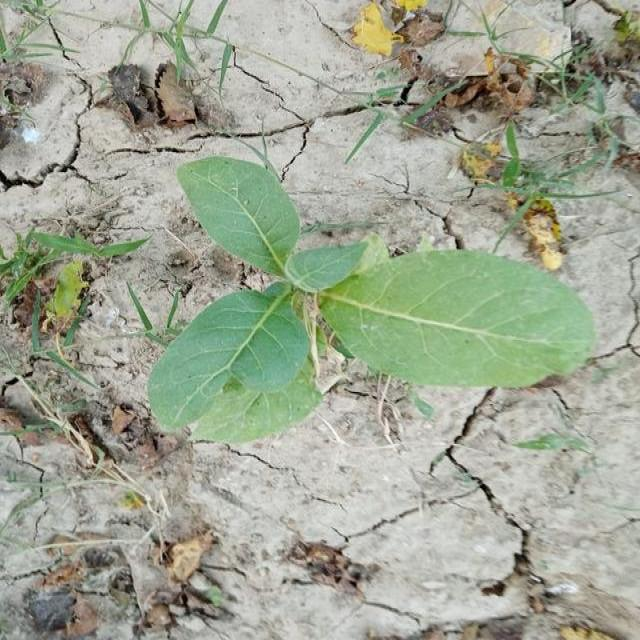crop: (148, 156, 586, 453)
